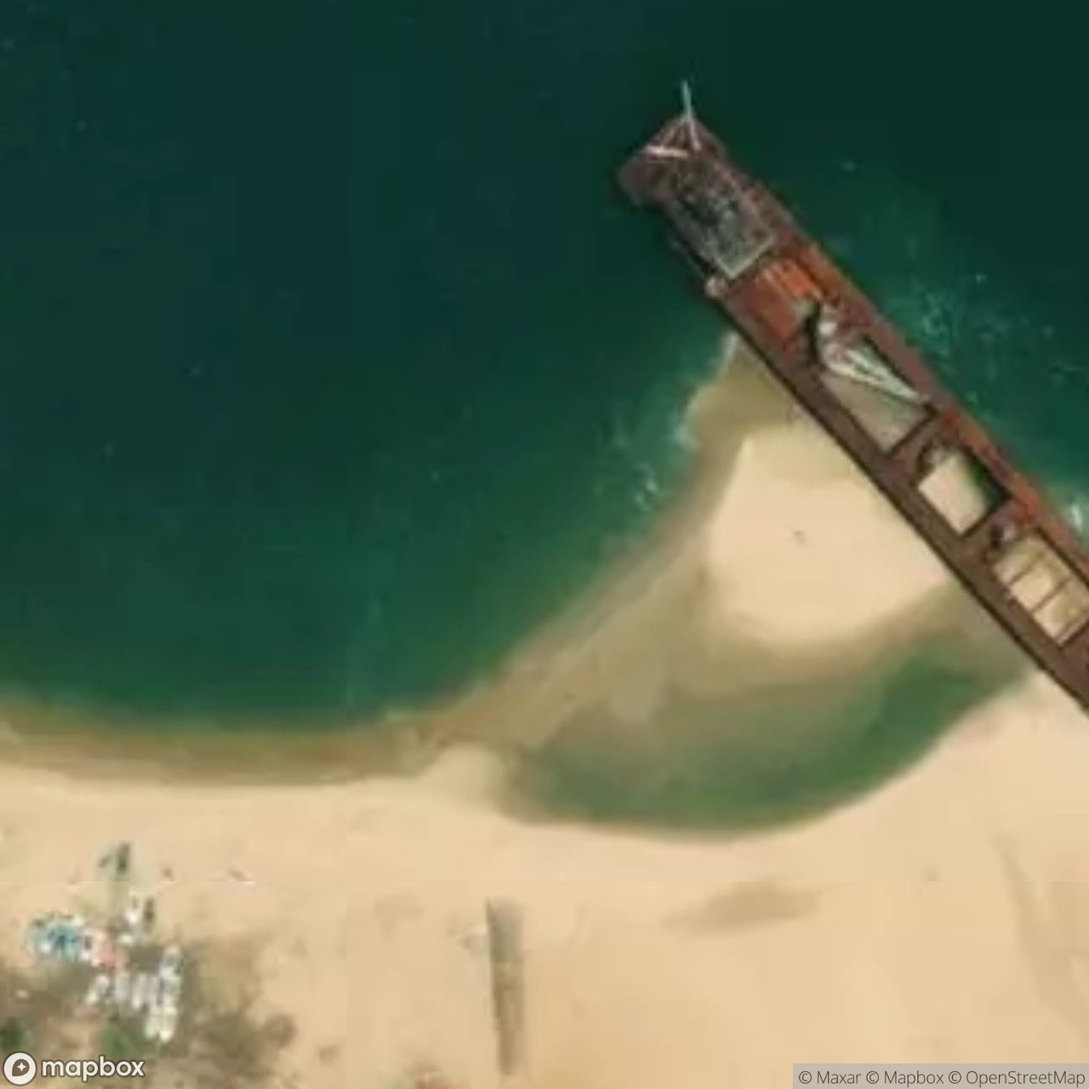Wreck: (481, 151, 710, 816)
